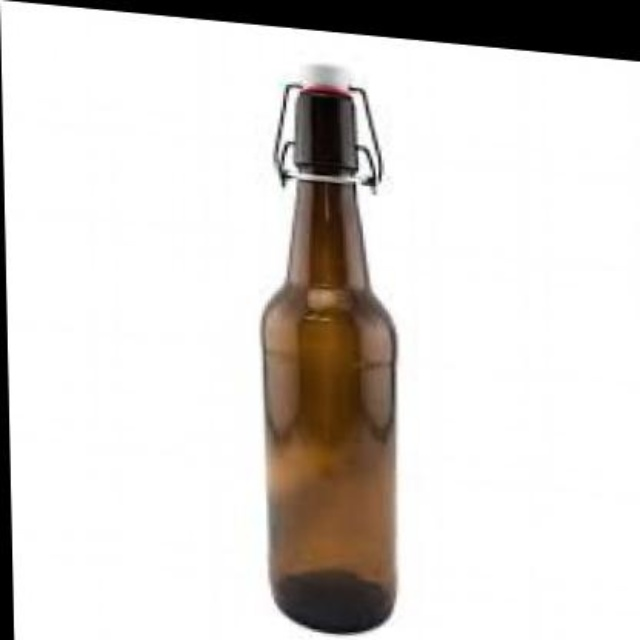trash: (262, 66, 395, 631)
